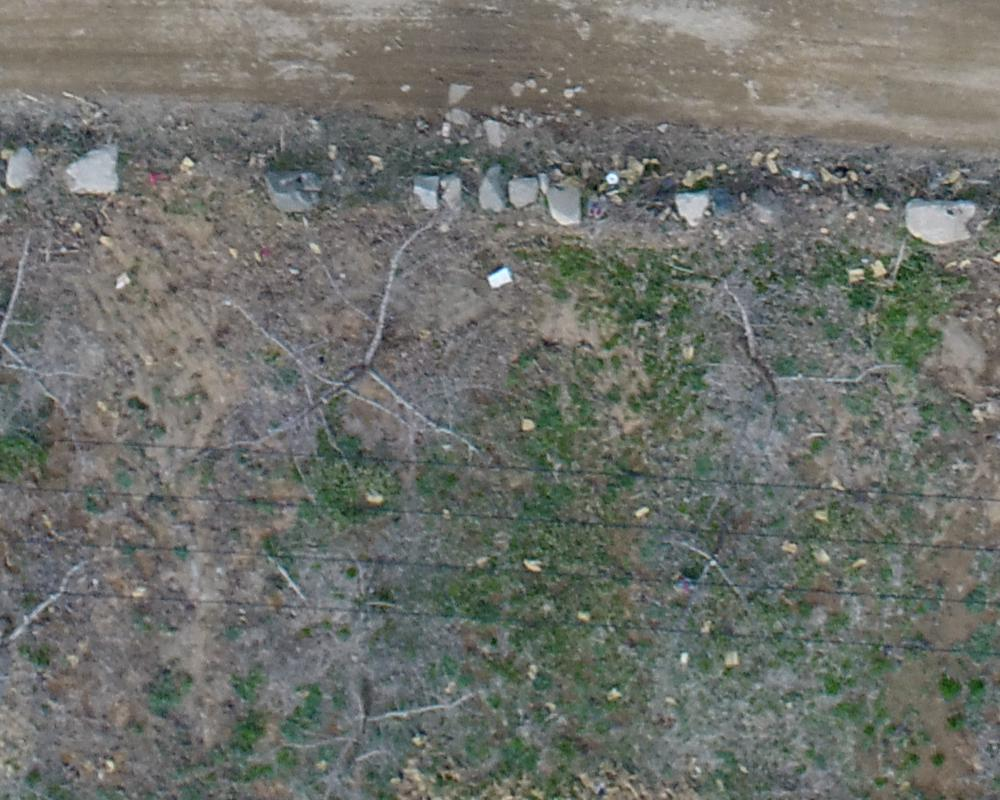apple: (218, 217, 496, 466), (239, 673, 485, 790), (687, 290, 889, 424), (637, 490, 800, 636), (10, 550, 113, 736)
